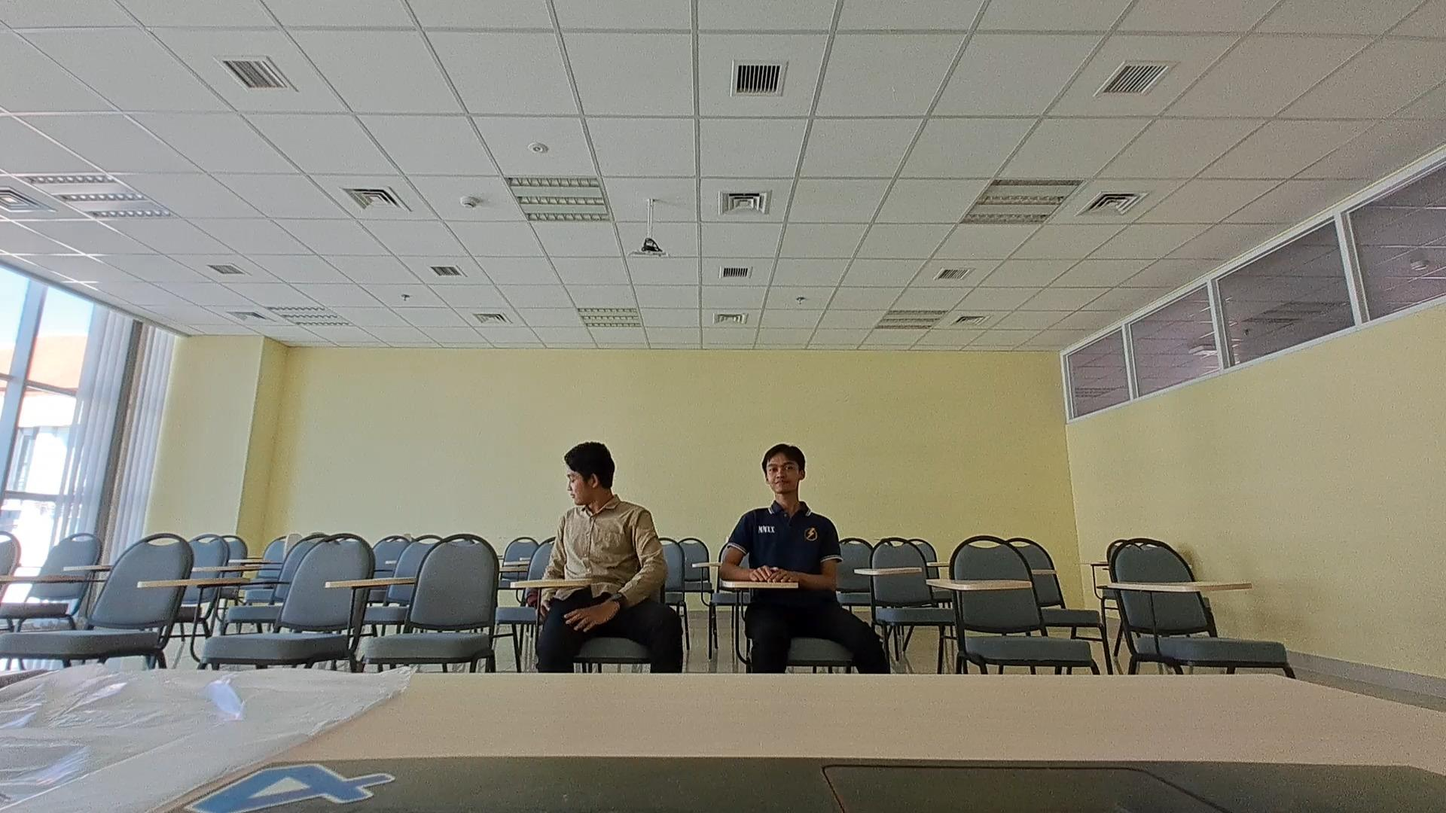study: (717, 438, 885, 672), (529, 433, 682, 670)
